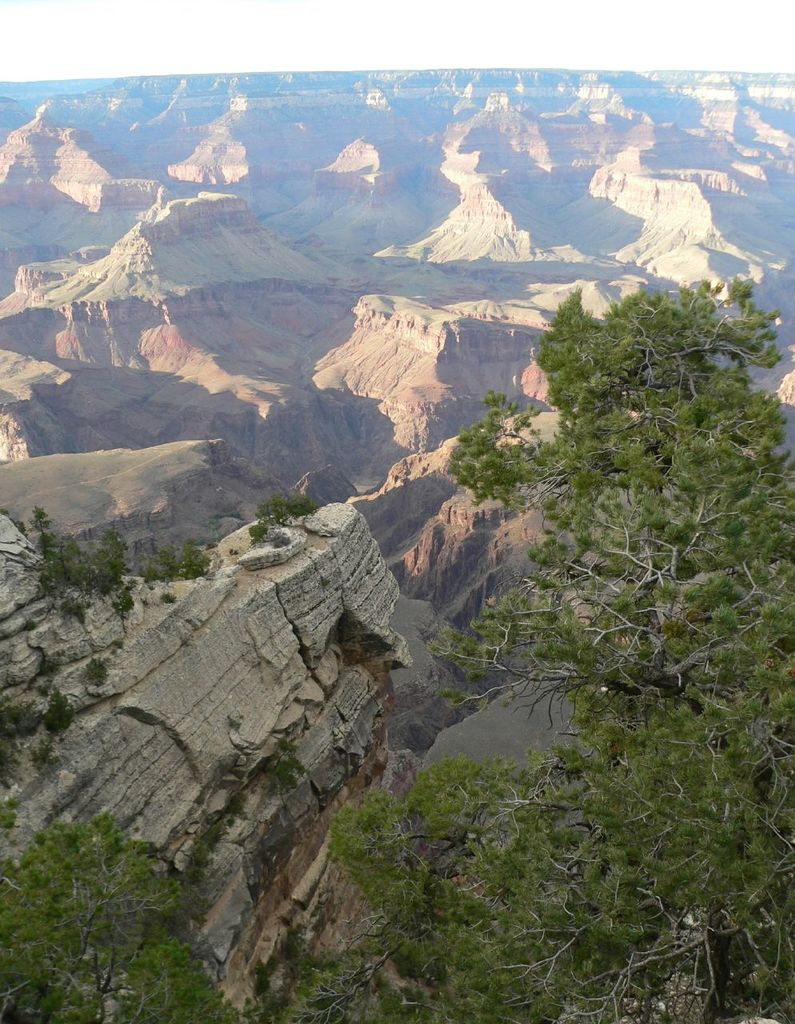Tree: (0, 275, 795, 1023)
